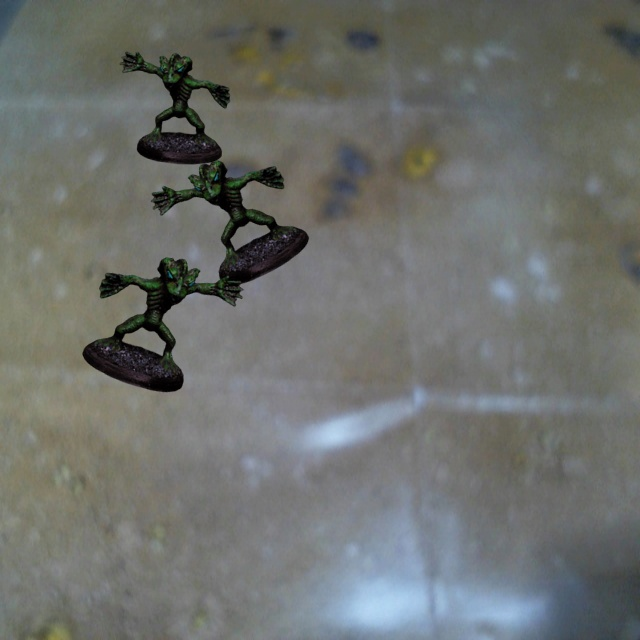pieza_juego: (82, 257, 243, 391), (151, 160, 308, 285), (119, 51, 229, 164)
